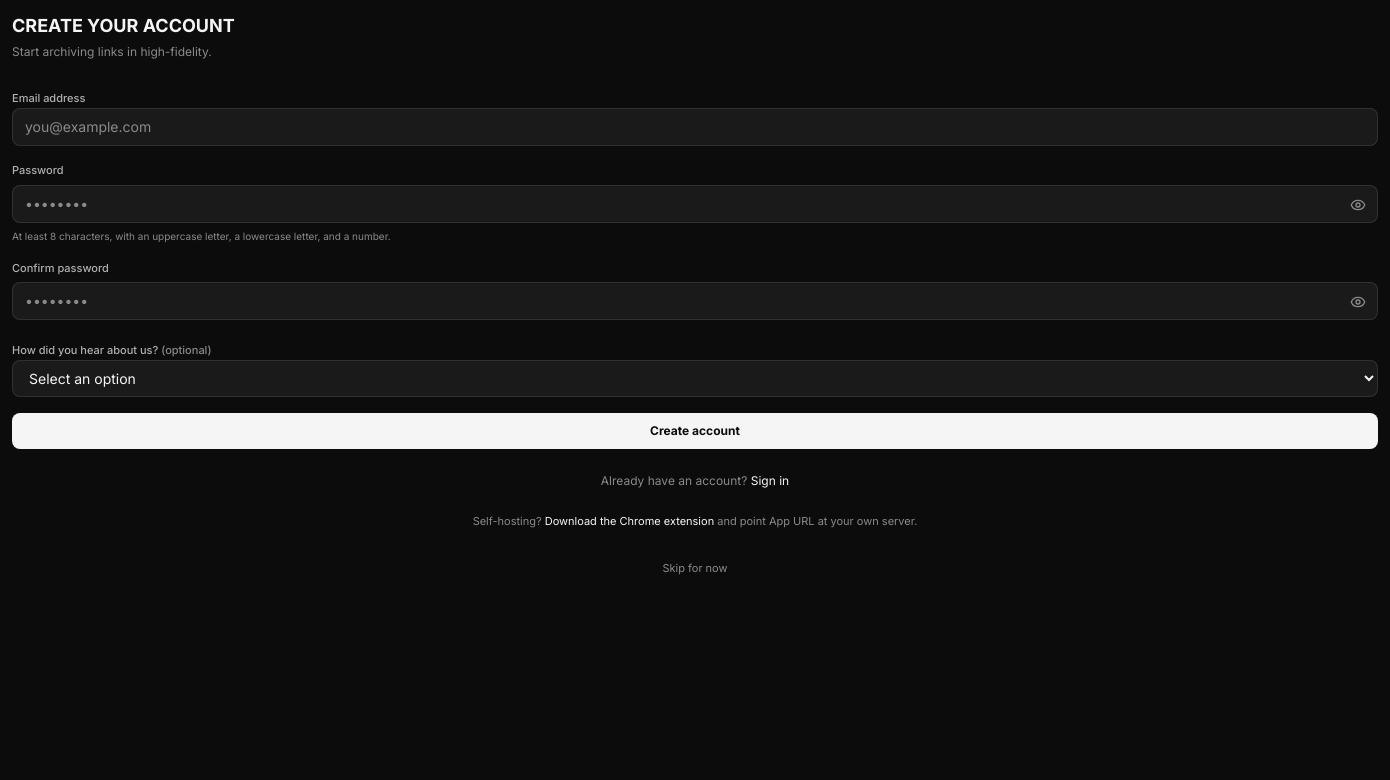
Test: SignupForm email › explains an invalid email before sending it
Type "user@localhost" into the field labelled "Email address" at (695, 127), box [12, 108, 1378, 146]
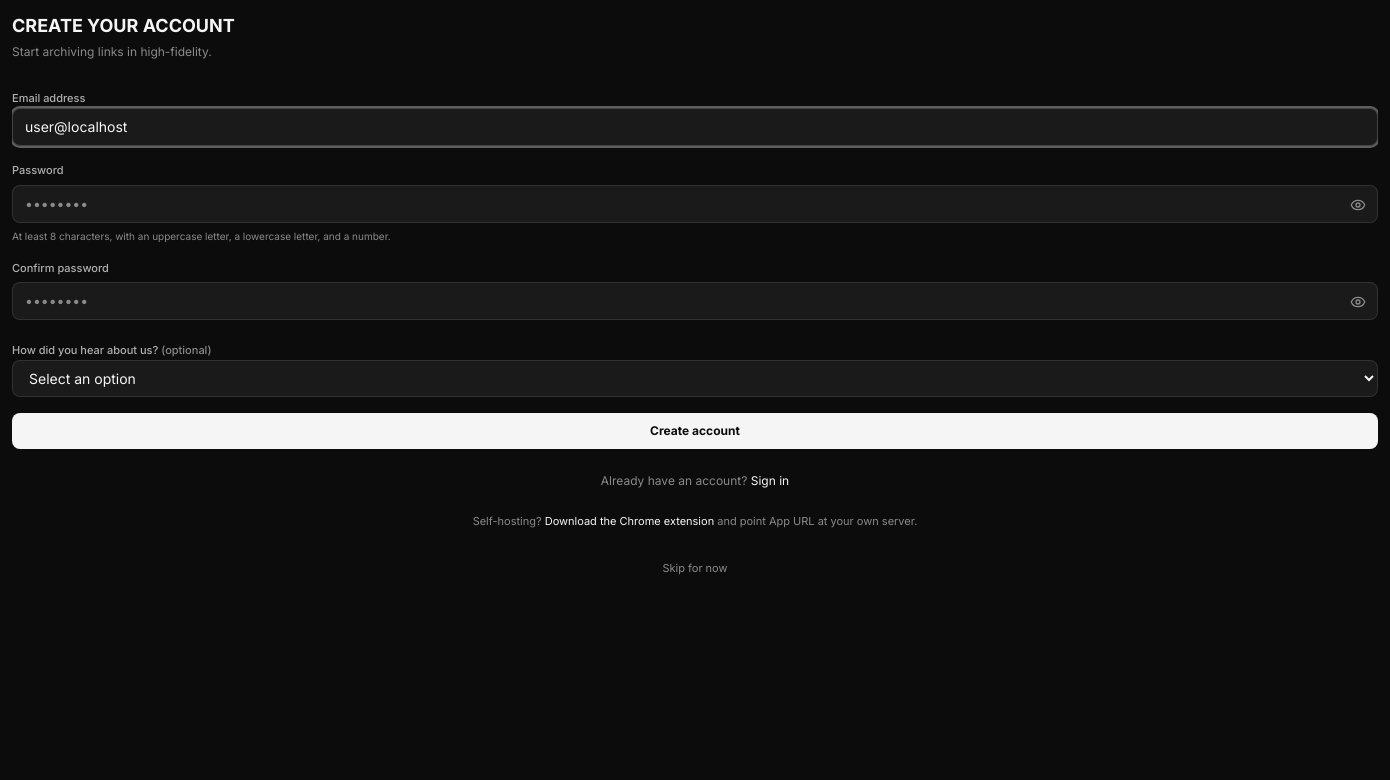
Type "Memory404" into the password field labelled "Password" at (695, 204), box [12, 184, 1378, 222]
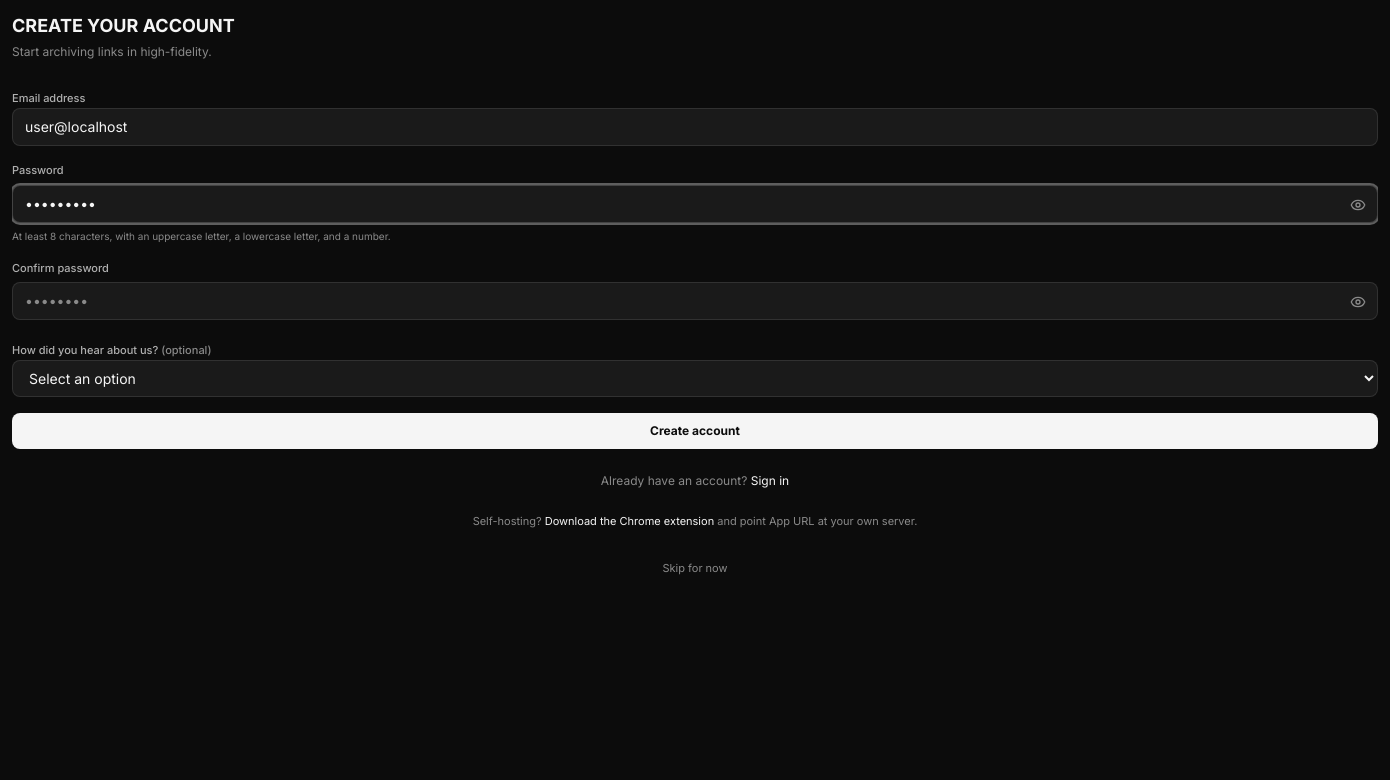
Type "Memory404" into the password field labelled "Confirm password" at (695, 301), box [12, 282, 1378, 320]
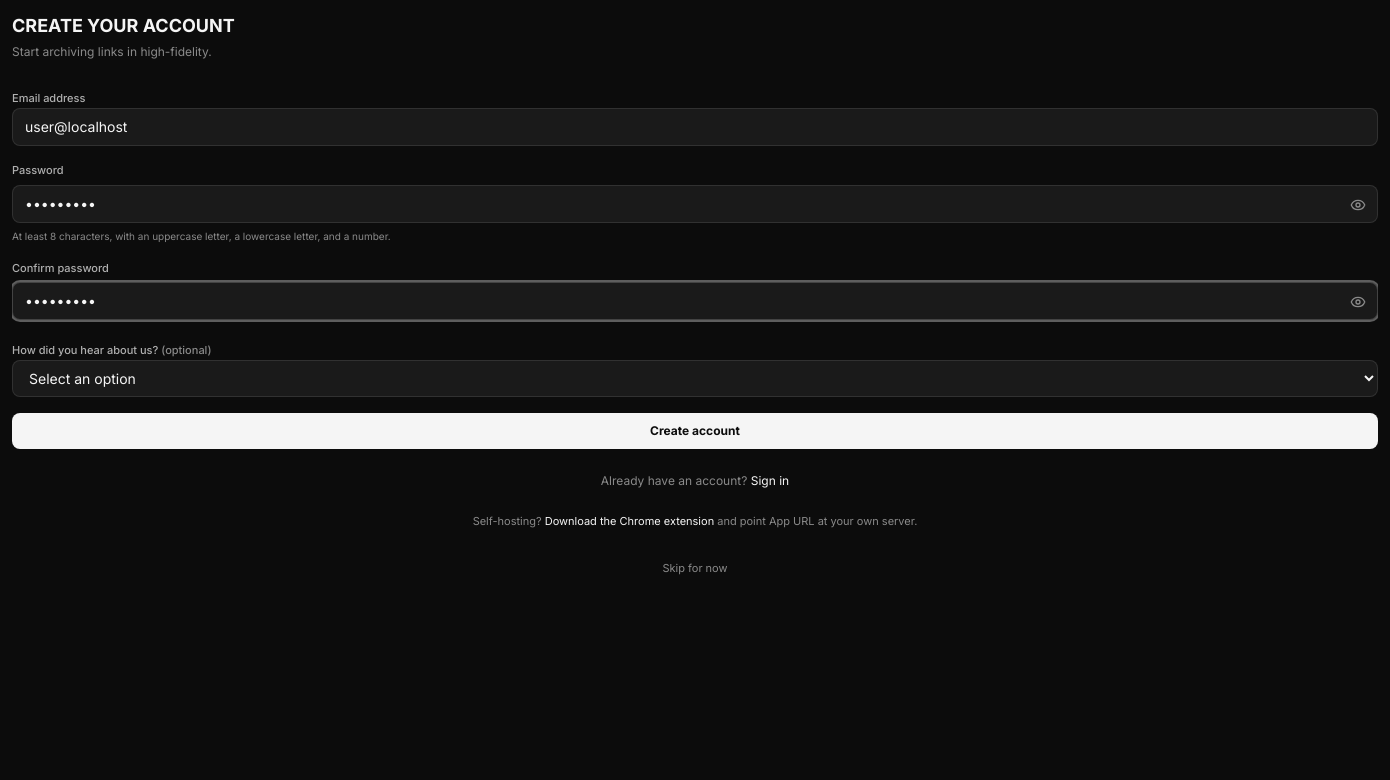
Click the button "Create account" at (695, 431), box [12, 413, 1378, 449]
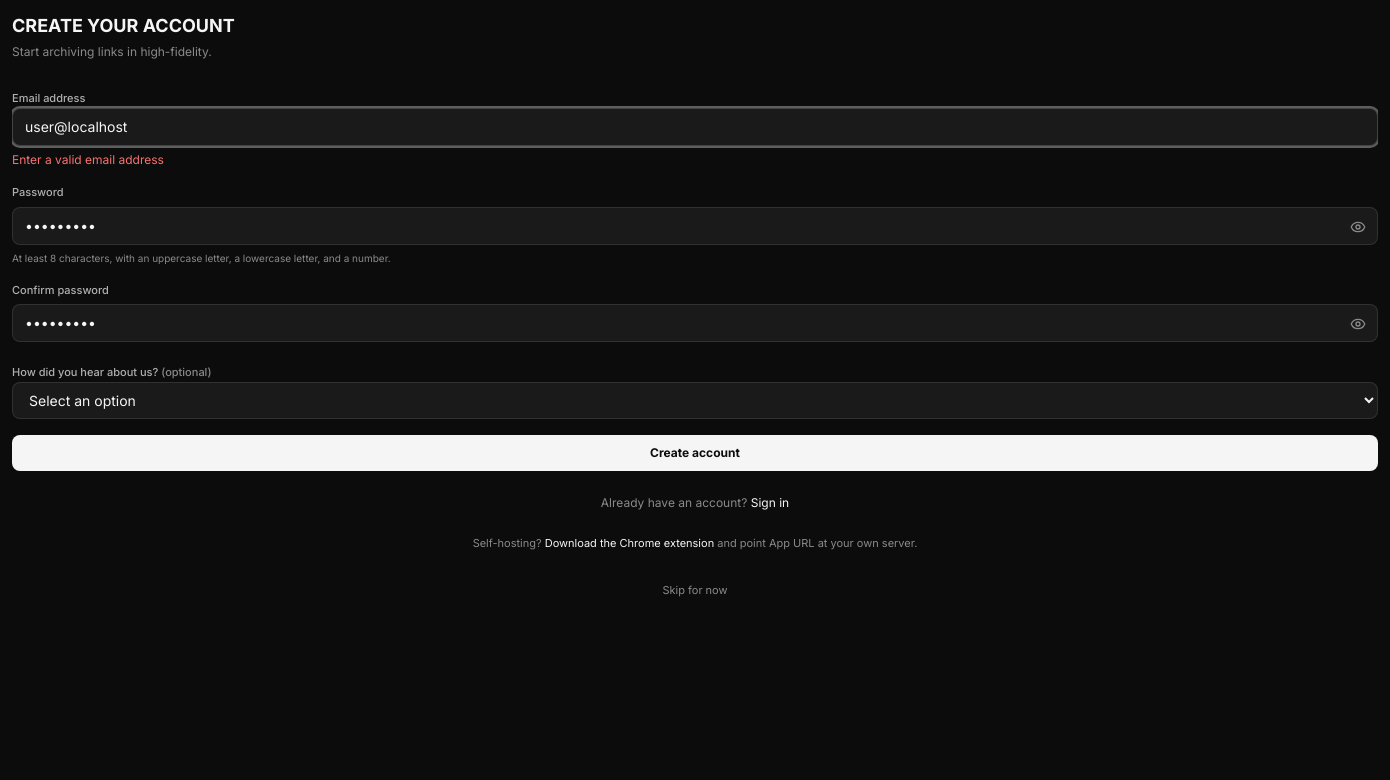
expect the message reads "Enter a valid email address": met, box [12, 152, 164, 167]
